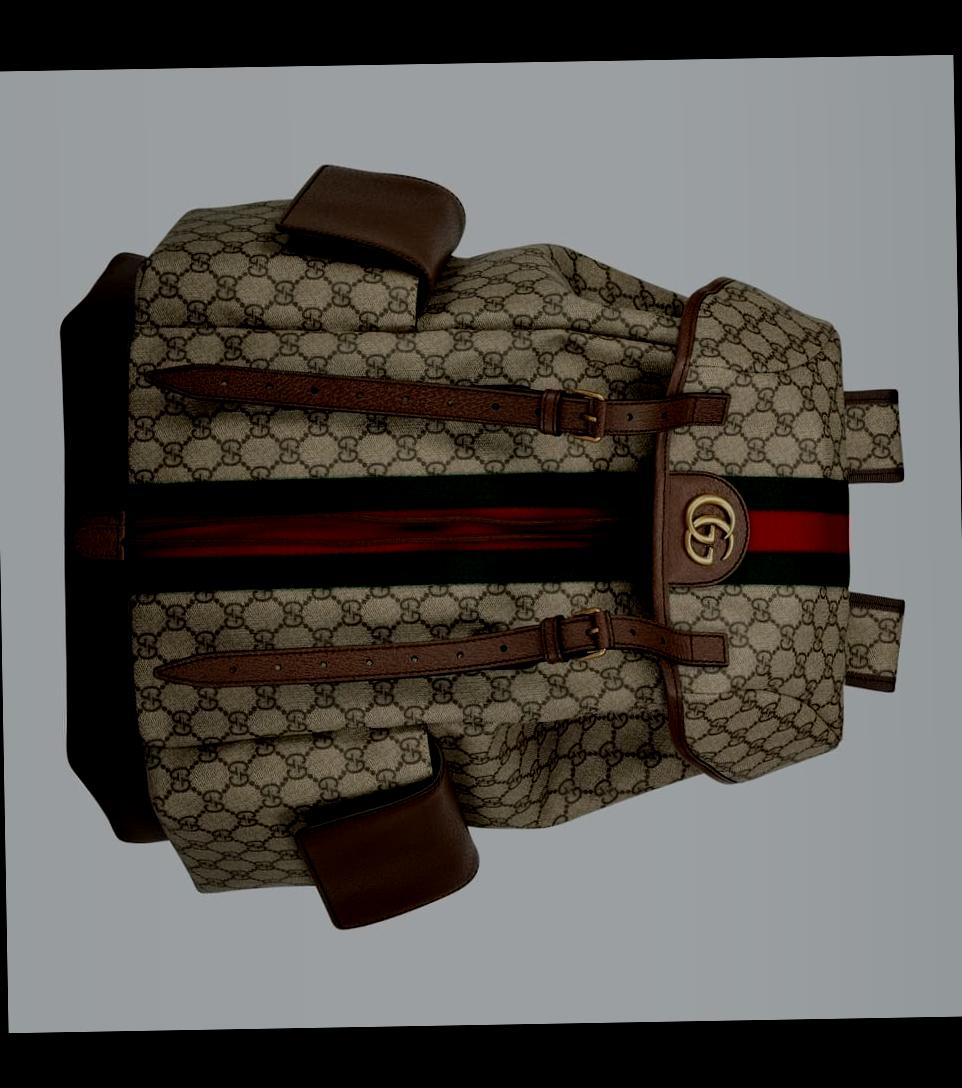GUCCI: (682, 493, 735, 567)
